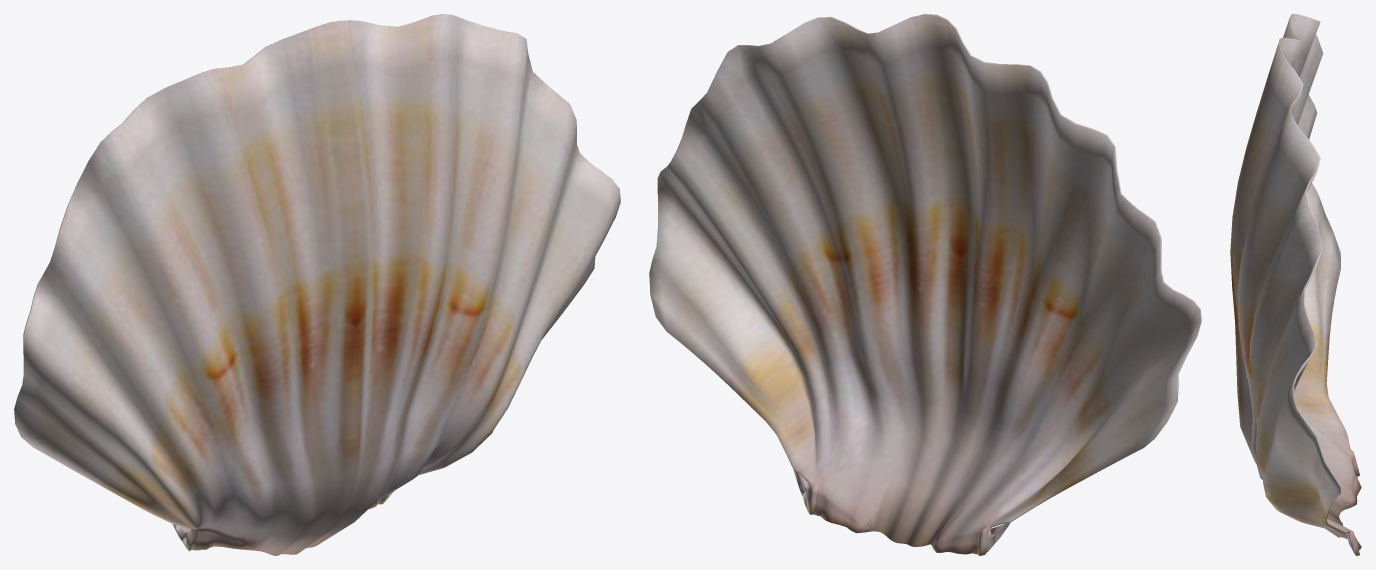
File: shell.fbx
The picture shows the model from 3 angles, left to right: view 1: azimuth 30°, elevation 25°; view 2: azimuth 150°, elevation 25°; view 3: azimuth 270°, elevation 25°; orthographic projection. The views are drawn at different scales.
Visible parts, largest first — view 1: shell; view 2: shell; view 3: shell.
Part boxes in pixels (<box>): shell: <box>14,14,620,555</box>; shell: <box>649,14,1201,555</box>; shell: <box>1230,14,1361,555</box>.
Bounding box in the file's own units: 0.438 × 0.3899 × 0.0949.
